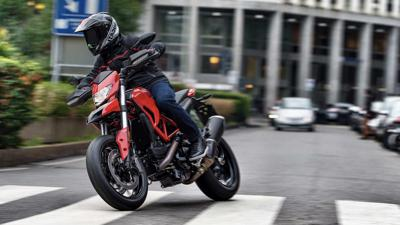With Helmet: (70, 8, 123, 57)
